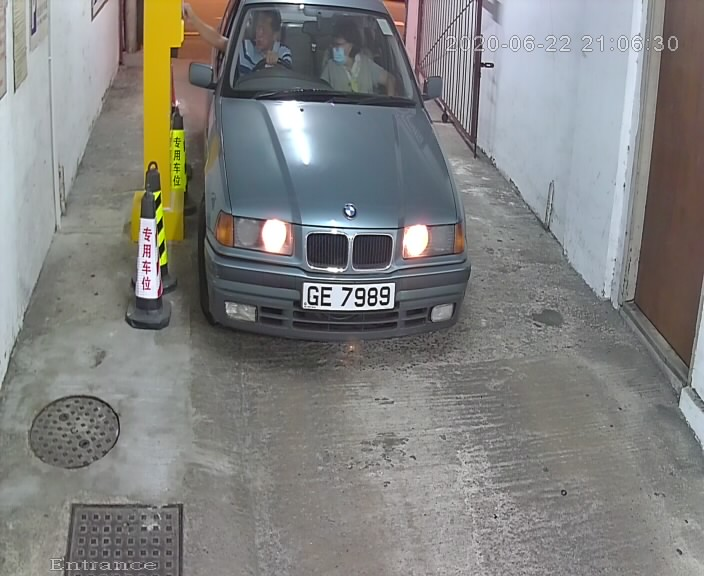privatecar: (183, 2, 491, 372)
